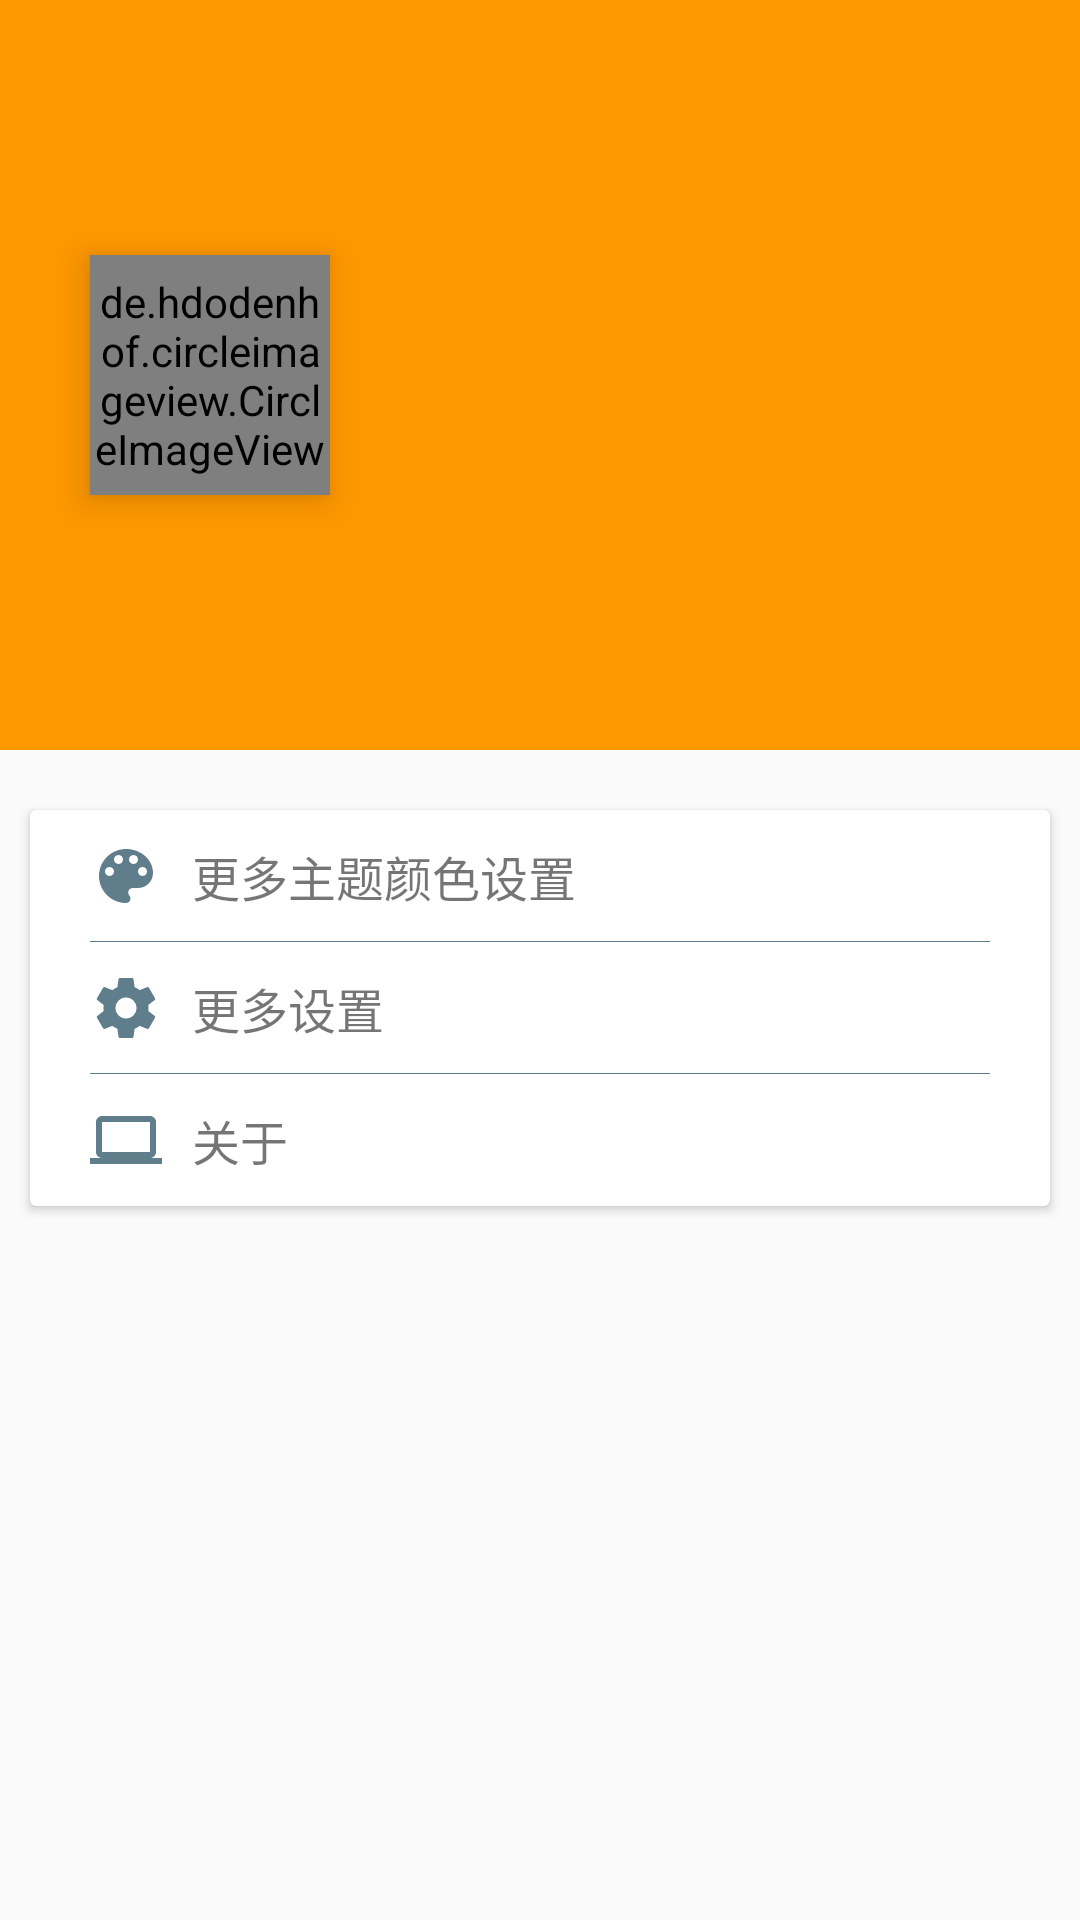

Screen size 1080px x 1920px. Icon name, then its box in pixels as (x1, y1, x2, y2):
computer: (90, 1116, 162, 1164)
settings: (97, 978, 155, 1038)
